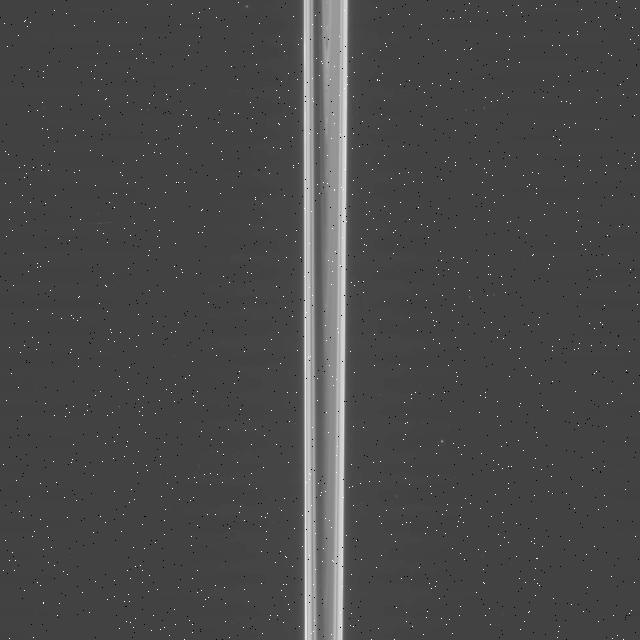Saturn: (303, 0, 348, 640)
